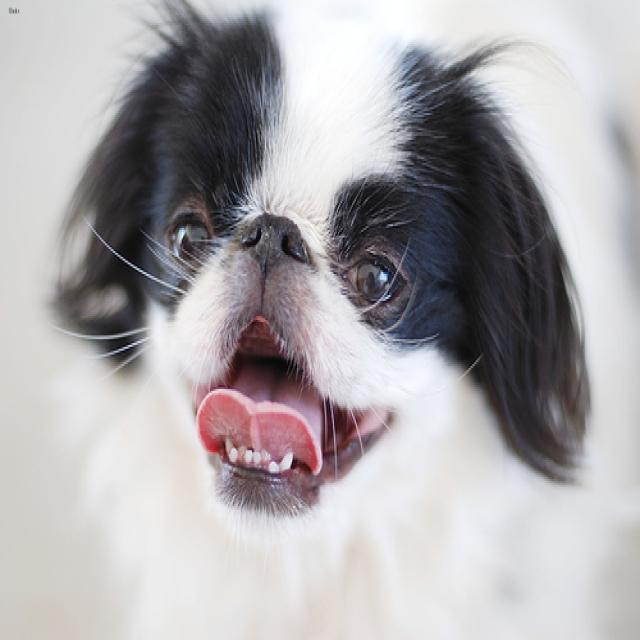dog-japanese_chin: (37, 2, 617, 636)
